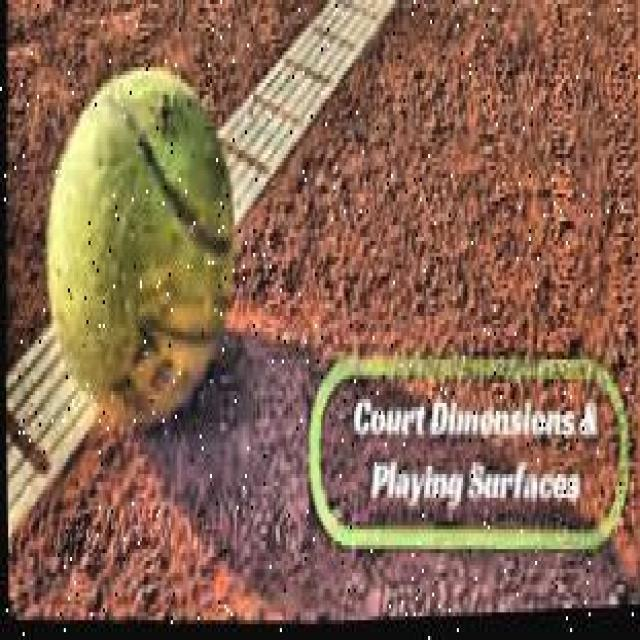tennis-ball: (34, 71, 270, 454)
